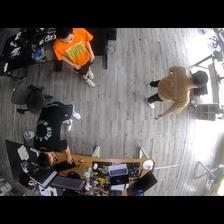normal: (146, 66, 211, 122), (34, 101, 80, 164), (51, 28, 99, 86)
